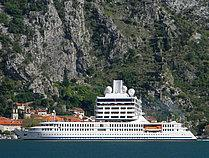Ship: (17, 78, 201, 144)
